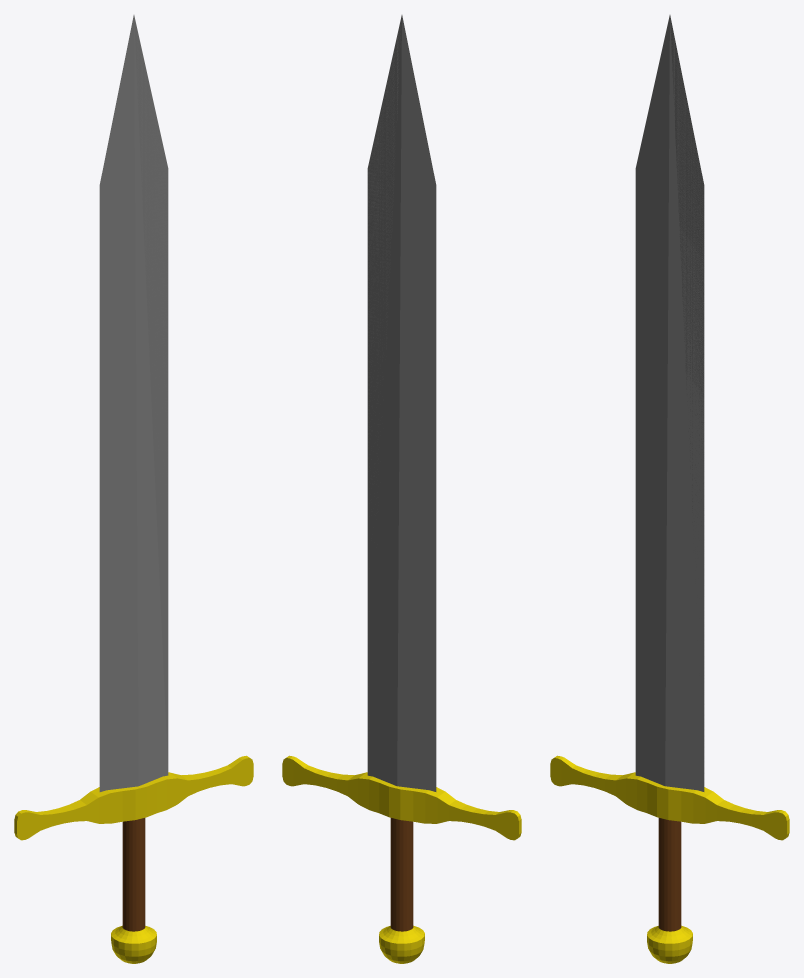
File: Sword.fbx
The picture shows the model from 3 angles, left to right: view 1: azimuth 30°, elevation 25°; view 2: azimuth 150°, elevation 25°; view 3: azimuth 330°, elevation 25°; orthographic projection.
Visible parts, largest first — view 1: Sword; view 2: Sword; view 3: Sword.
Part boxes in pixels (box(x1,y1,x2,y2)): Sword: box(14, 15, 253, 963); Sword: box(282, 15, 521, 963); Sword: box(550, 15, 789, 963).
Size of the model in its own units: 26.09 by 4.41 by 100.
